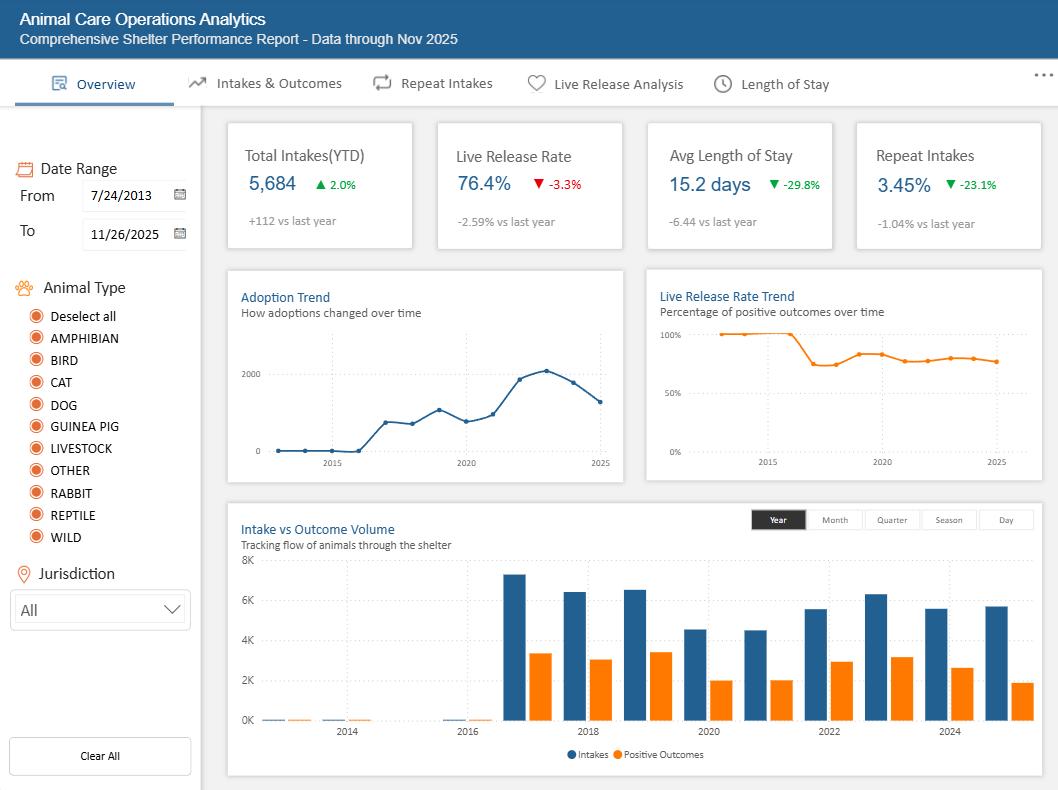

The page's visual inventory and layout, read from the dashboard file:
{"tool":"powerbi","page":{"name":"Overview","canvas":[1200,900],"ordinal":0},"visuals":[{"type":"shape","box":[0,65.6,228.9,834.4],"z":0},{"type":"shape","box":[970,143,209,142],"z":1000},{"type":"shape","box":[733,143,209,142],"z":2000},{"type":"shape","box":[496,143,209,142],"z":3000},{"type":"shape","box":[258.2,142.9,208.6,141.8],"z":4000},{"type":"shape","box":[0,9.9,1280.5,113.1],"z":5000},{"type":"shape","box":[0,0.8,1200,69.2],"z":6000},{"type":"textbox","box":[18.4,9.9,508.8,33.9],"z":7000},{"type":"cardVisual","fields":{"Data":["dataset.Live Release Rate(YTD)"]},"box":[494.4,143.3,210,142.2],"z":8000},{"type":"cardVisual","fields":{"Data":["dataset.Avg Length of Stay(YTD) formatted"]},"box":[733.5,144.2,207.8,139.9],"z":9000},{"type":"cardVisual","fields":{"Data":["dataset.Repeat Intake Rate(YTD)"]},"box":[970,144,211,143],"z":10000},{"type":"lineChart","title":"Adoption Trend","fields":{"Category":["Date.YEAR"],"Y":["dataset.Total Adoptions"]},"box":[258,309,447,239],"z":11000},{"type":"lineChart","title":"Live Release Rate Trend","fields":{"Category":["Date.YEAR"],"Y":["dataset.Live Release Rate"]},"box":[732.5,308.8,447.5,238.8],"z":12000},{"type":"clusteredColumnChart","title":"Intake vs Outcome Volume","fields":{"Category":["Date.YEAR"],"Y":["dataset.Total Intakes","Sum(dataset.Positive Outcome)"]},"box":[258.2,571.8,921,307.8],"z":13000},{"type":"slicer","fields":{"Values":["DateParameters.DateParameters"]},"box":[824,572.4,370.3,36.7],"z":14000},{"type":"textbox","box":[18.4,34.6,668.6,34.6],"z":15000},{"type":"cardVisual","title":"Total Intakes(YTD)","fields":{"Data":["dataset.Total Intakes(YTD)"]},"box":[258,143,209,140],"z":16000},{"type":"cardVisual","fields":{"Data":["dataset.Total Intake(YTD) % change"]},"box":[343.4,189.4,124.4,42.4],"z":17000},{"type":"textbox","box":[273.3,162.2,176.7,34.4],"z":18000},{"type":"textbox","box":[511.1,163.3,176.7,34.4],"z":19000},{"type":"textbox","box":[753.3,162.5,176.7,35.3],"z":20000},{"type":"textbox","box":[986,162,177,35],"z":21000},{"type":"cardVisual","fields":{"Data":["dataset.Avg Length of Stay % change"]},"box":[838.1,189.4,103.2,42],"z":22000},{"type":"slicer","fields":{"Values":["dataset.Intake Date"]},"box":[81.8,196.4,134.5,102.7],"z":23000},{"type":"textbox","box":[11.8,178.2,127.3,32.7],"z":24000},{"type":"image","box":[18.2,184.5,20,20],"z":25000},{"type":"textbox","box":[18.9,207.8,63.3,33.3],"z":26000},{"type":"textbox","box":[17.8,247.8,64.4,33.3],"z":27000},{"type":"listSlicer","fields":{"Values":["dataset.Animal Type"]},"box":[28.9,344.4,187.8,280],"z":28000},{"type":"textbox","box":[18.4,312.3,130,32.5],"z":29000},{"type":"image","box":[18.9,318.9,20,20],"z":30000},{"type":"textbox","box":[17.8,636.7,117.8,32.2],"z":31000},{"type":"image","box":[18.9,643.3,20,20],"z":32000},{"type":"slicer","fields":{"Values":["dataset.Jurisdiction"]},"box":[12.5,670,203.8,46],"z":33000},{"type":"actionButton","box":[11.3,836.7,206.3,43.8],"z":34000},{"type":"actionButton","box":[19,70,180,53],"z":35000},{"type":"actionButton","box":[198.8,70,200,52.5],"z":36000},{"type":"actionButton","box":[578.8,70,210,55],"z":37000},{"type":"actionButton","box":[398.8,70,180,52.5],"z":38000},{"type":"actionButton","box":[788.8,70,180,55],"z":39000},{"type":"cardVisual","fields":{"Data":["dataset.Live Release Rate % change"]},"box":[589.4,189.4,115.9,42.4],"z":41000},{"type":"cardVisual","fields":{"Data":["dataset.Repeat Intake Rate % change"]},"box":[1055.8,189.4,123,42],"z":42000}]}

Visuals, with their boxes on the page's 1200x900 design canvas (x1, y1, x2, y2). These are canvas units, not pixel positions in the 1058x790 screenshot, which may show the page scaled, cropped or inside an application window:
shape: BBox(0, 66, 229, 900)
shape: BBox(970, 143, 1179, 285)
shape: BBox(733, 143, 942, 285)
shape: BBox(496, 143, 705, 285)
shape: BBox(258, 143, 467, 285)
shape: BBox(0, 10, 1280, 123)
shape: BBox(0, 1, 1200, 70)
textbox: BBox(18, 10, 527, 44)
cardVisual - dataset.Live Release Rate(YTD): BBox(494, 143, 704, 286)
cardVisual - dataset.Avg Length of Stay(YTD) formatted: BBox(734, 144, 941, 284)
cardVisual - dataset.Repeat Intake Rate(YTD): BBox(970, 144, 1181, 287)
"Adoption Trend" lineChart: BBox(258, 309, 705, 548)
"Live Release Rate Trend" lineChart: BBox(732, 309, 1180, 548)
"Intake vs Outcome Volume" clusteredColumnChart: BBox(258, 572, 1179, 880)
slicer - DateParameters.DateParameters: BBox(824, 572, 1194, 609)
textbox: BBox(18, 35, 687, 69)
"Total Intakes(YTD)" cardVisual: BBox(258, 143, 467, 283)
cardVisual - dataset.Total Intake(YTD) % change: BBox(343, 189, 468, 232)
textbox: BBox(273, 162, 450, 197)
textbox: BBox(511, 163, 688, 198)
textbox: BBox(753, 162, 930, 198)
textbox: BBox(986, 162, 1163, 197)
cardVisual - dataset.Avg Length of Stay % change: BBox(838, 189, 941, 231)
slicer - dataset.Intake Date: BBox(82, 196, 216, 299)
textbox: BBox(12, 178, 139, 211)
image: BBox(18, 184, 38, 204)
textbox: BBox(19, 208, 82, 241)
textbox: BBox(18, 248, 82, 281)
listSlicer - dataset.Animal Type: BBox(29, 344, 217, 624)
textbox: BBox(18, 312, 148, 345)
image: BBox(19, 319, 39, 339)
textbox: BBox(18, 637, 136, 669)
image: BBox(19, 643, 39, 663)
slicer - dataset.Jurisdiction: BBox(12, 670, 216, 716)
actionButton: BBox(11, 837, 218, 880)
actionButton: BBox(19, 70, 199, 123)
actionButton: BBox(199, 70, 399, 122)
actionButton: BBox(579, 70, 789, 125)
actionButton: BBox(399, 70, 579, 122)
actionButton: BBox(789, 70, 969, 125)
cardVisual - dataset.Live Release Rate % change: BBox(589, 189, 705, 232)
cardVisual - dataset.Repeat Intake Rate % change: BBox(1056, 189, 1179, 231)
